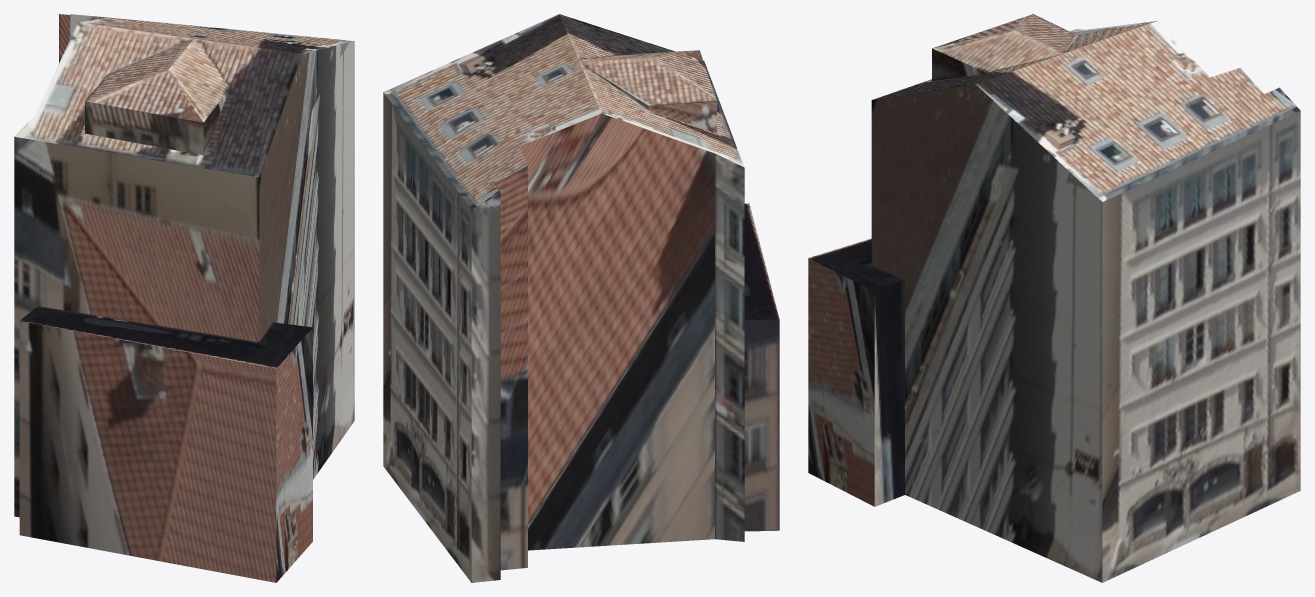
3 views of the same model, side by side, from view 1: azimuth 30°, elevation 25°; view 2: azimuth 150°, elevation 25°; view 3: azimuth 270°, elevation 25° (orthographic).
Parts seen in each view (by area): view 1: Z_UP; view 2: Z_UP; view 3: Z_UP.
Part boxes in pixels (x1=…): Z_UP: x1=14, y1=14, x2=354, y2=582; Z_UP: x1=383, y1=14, x2=779, y2=582; Z_UP: x1=808, y1=14, x2=1300, y2=582.
Bounding box in the file's own units: 18.51 × 21.15 × 21.35.
2 materials, 1 textured.
